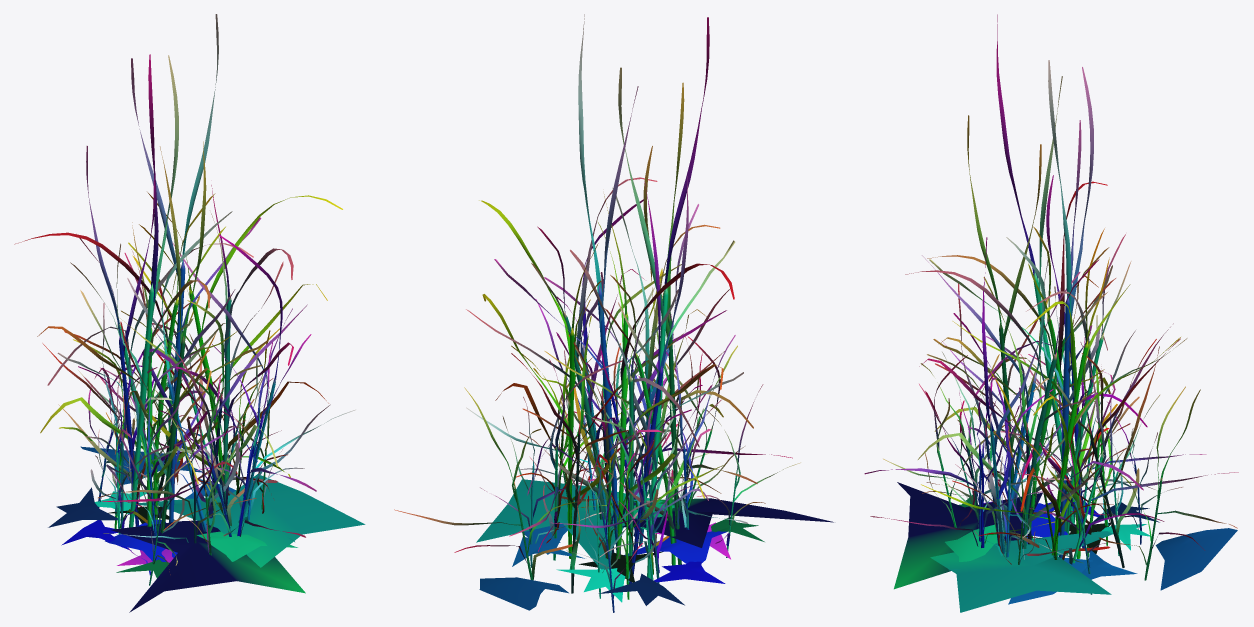
File: Kikuyu_Grass_wiljearqx_High_wiljearqx_VarA_LOD0.fbx
3 views of the same model, side by side, from view 1: azimuth 30°, elevation 25°; view 2: azimuth 150°, elevation 25°; view 3: azimuth 270°, elevation 25° (orthographic). The views are drawn at different scales.
Visible parts, largest first — view 1: _pyvy_VarA_LOD0; view 2: _pyvy_VarA_LOD0; view 3: _pyvy_VarA_LOD0.
Part boxes in pixels (x1,y1,x2,y2): _pyvy_VarA_LOD0: (14, 14, 365, 612); _pyvy_VarA_LOD0: (394, 14, 833, 612); _pyvy_VarA_LOD0: (864, 14, 1238, 612).
Bounding box in the file's own units: 32.28 × 54.07 × 35.06.
